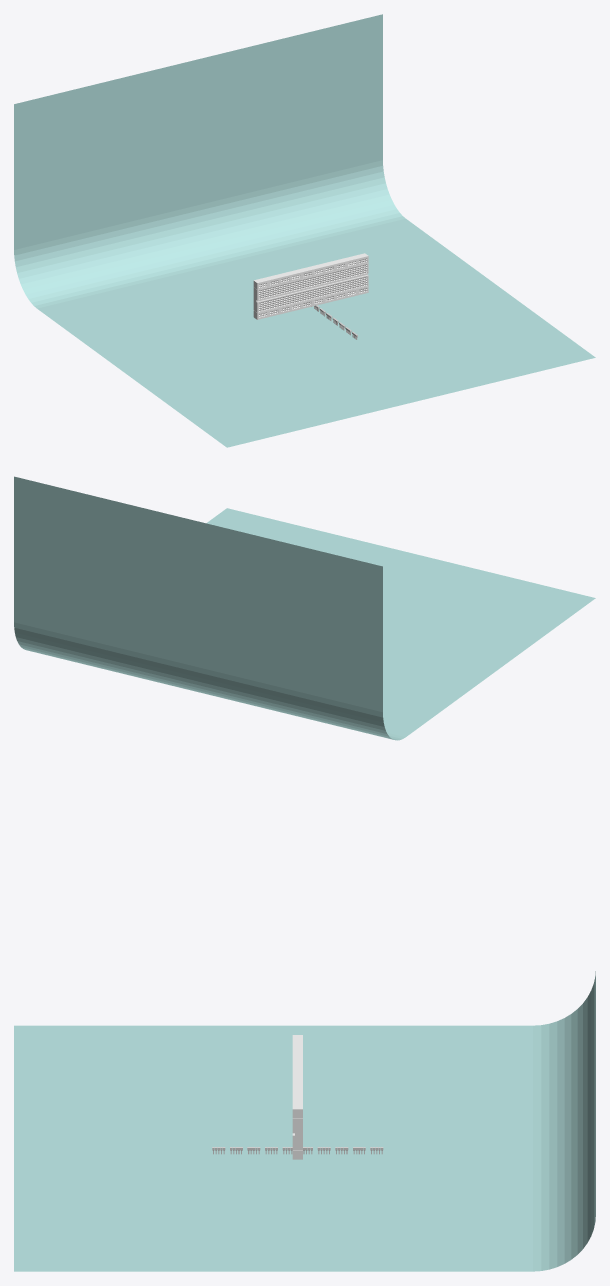
File: bread+board.fbx
3 renders of one model, top to bottom at view 1: azimuth 30°, elevation 25°; view 2: azimuth 150°, elevation 25°; view 3: azimuth 270°, elevation 25°, orthographic. The views are drawn at different scales.
Visible parts, largest first — view 1: Plane, Cube.001, Cube; view 2: Plane; view 3: Plane, Cube, Cube.013.
Boxes of the visible parts, x1,y1,x2,y2 form: Plane: (14,14,595,447); Cube.001: (253,263,368,312); Cube: (253,253,368,319); Plane: (14,476,595,740); Plane: (14,971,595,1271); Cube: (292,1035,302,1159); Cube.013: (212,1147,383,1154).
Bounding box in the file's own units: 5628 × 2734 × 5628.
